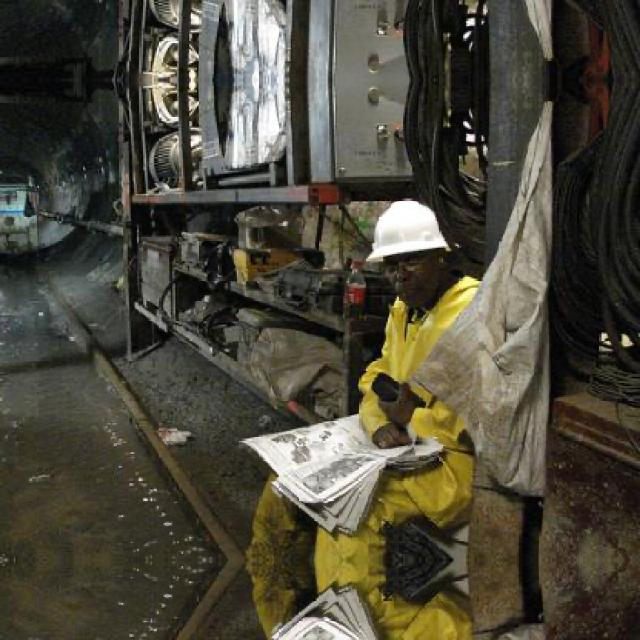con casco: (351, 183, 495, 291)
